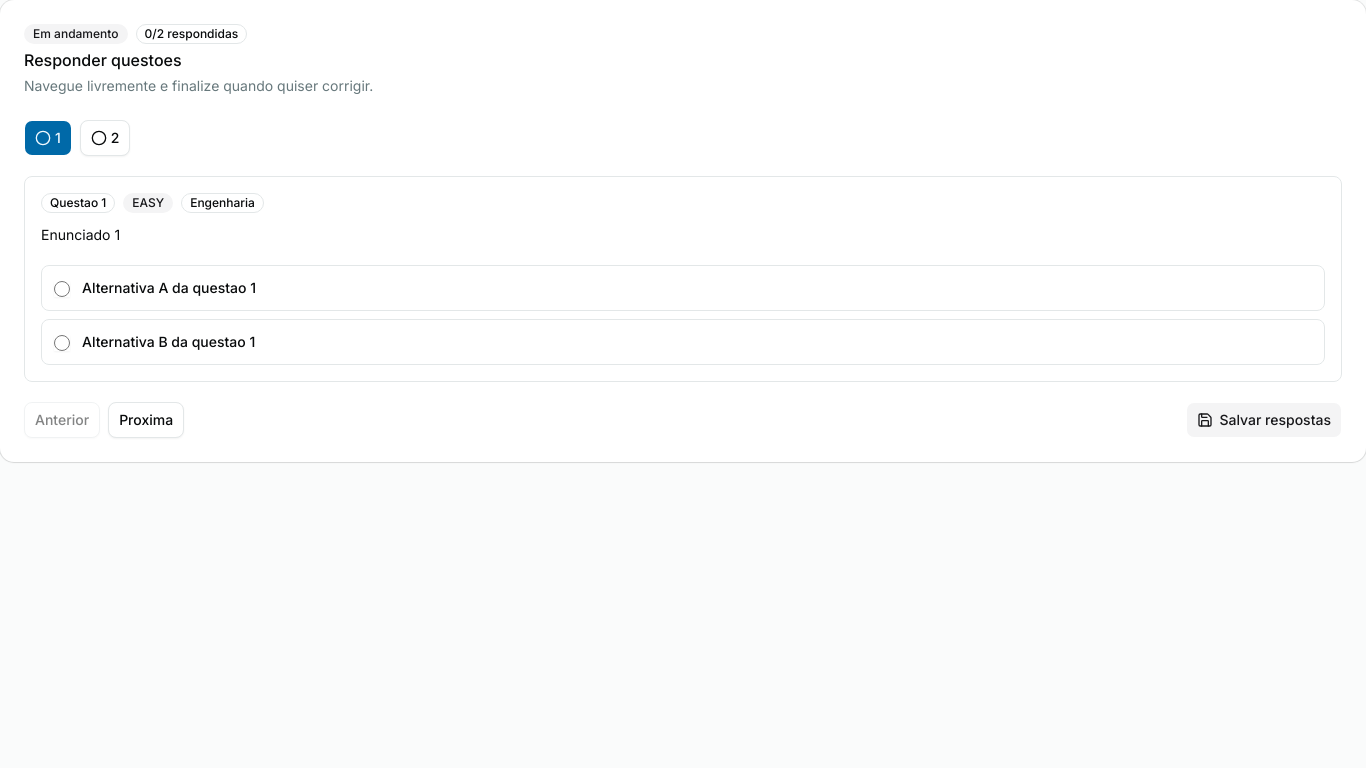
SimulationAttemptView › indica as questoes pendentes e nao finaliza enquanto faltarem respostas
This screenshot has width=1366, height=768.
Click the button "Proxima".
click(146, 420)  # box [108,402,184,438]
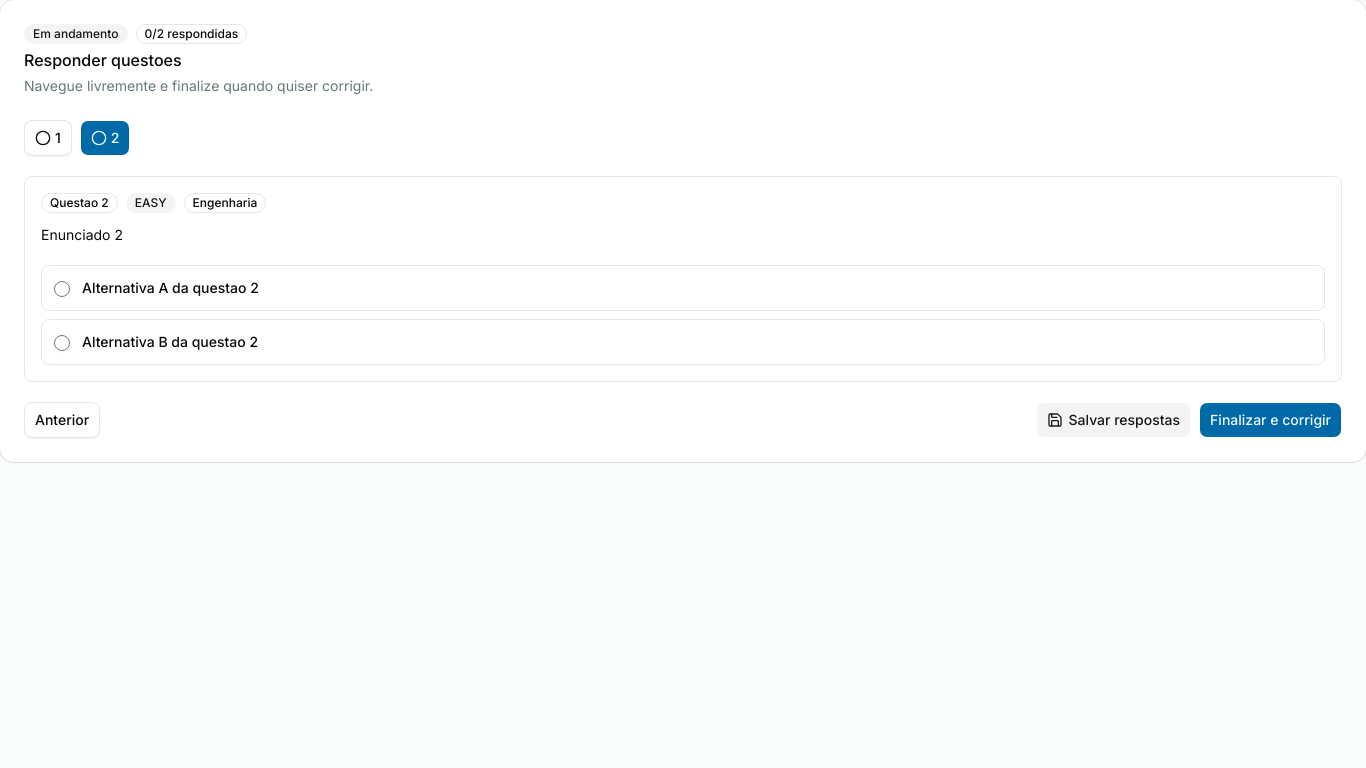
Click the button "Finalizar e corrigir".
click(1271, 420)  # box [1199,402,1342,438]
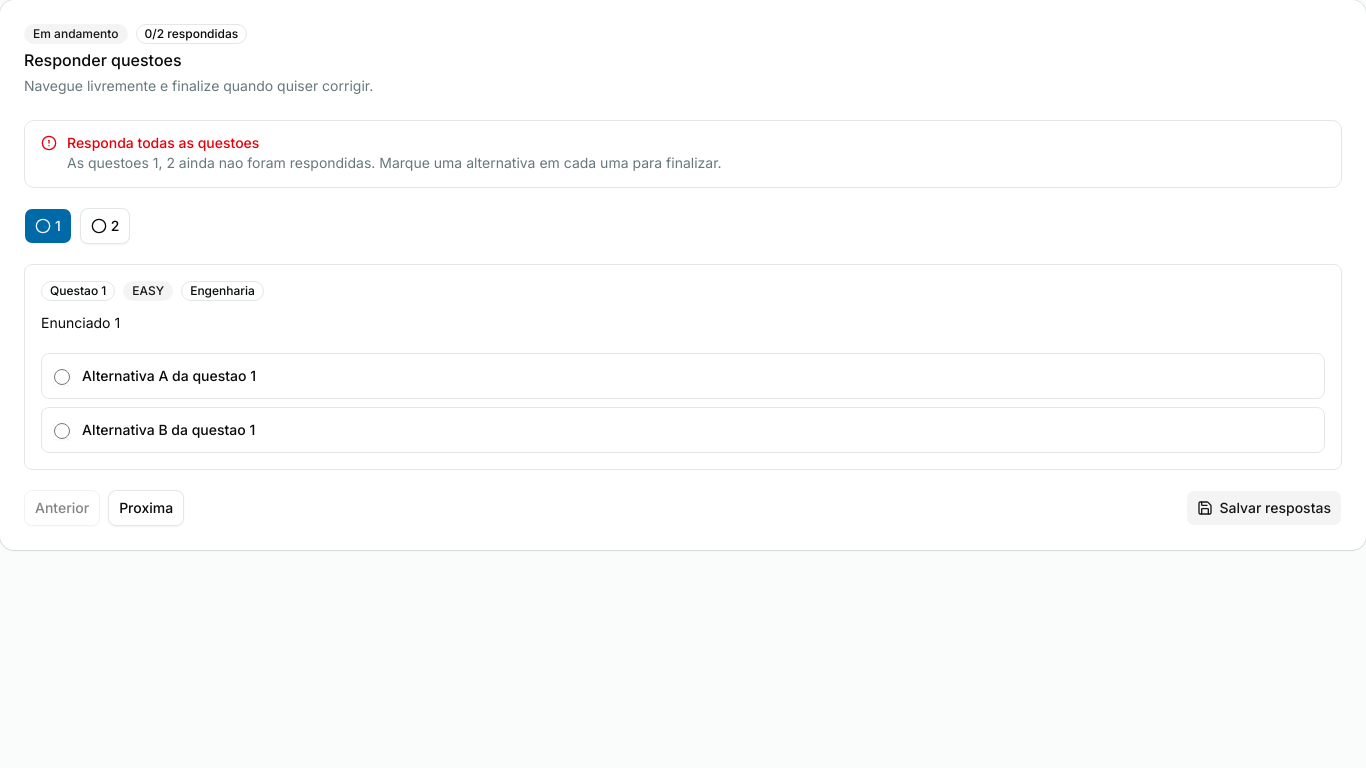
Expected: the text "Responda todas as questoes" is shown, [67,134,259,151]
Expected: the text "As questoes 1, 2 ainda nao foram respondidas. Marque uma alternativa em cada uma para finalizar." is shown, [67,154,722,171]
Expected: the text "Enunciado 1" is shown, [41,314,120,331]
